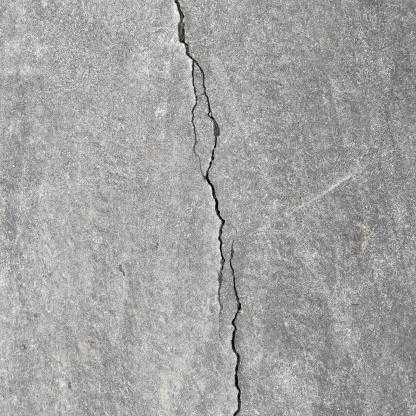crack: (175, 1, 225, 334), (194, 62, 215, 173), (230, 242, 242, 416)
